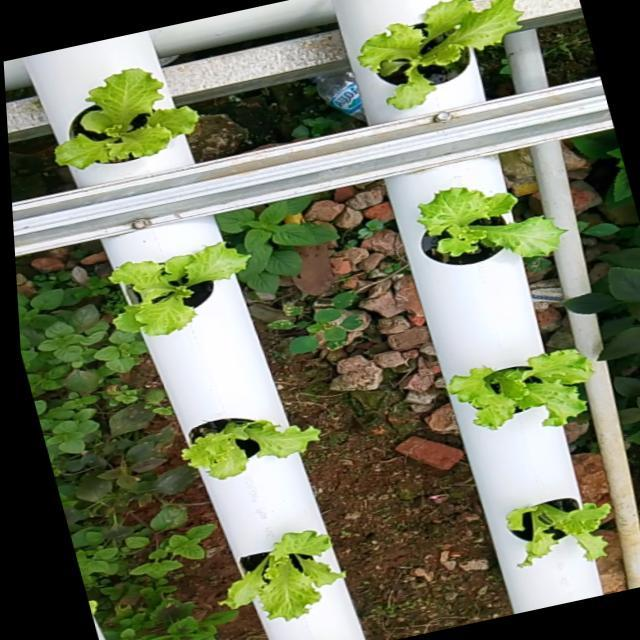Baby: (367, 0, 533, 115), (60, 70, 205, 187), (113, 243, 257, 338), (445, 350, 594, 432), (417, 187, 566, 266), (217, 531, 344, 622), (180, 418, 319, 480), (505, 499, 610, 568)
